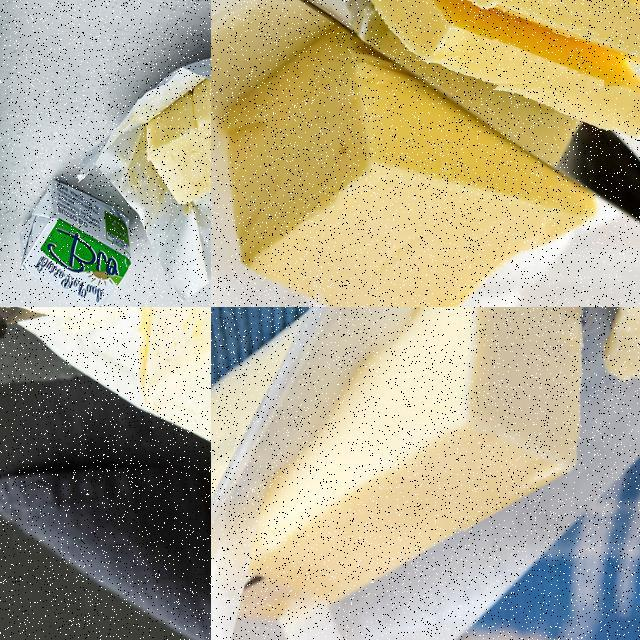Butter: (211, 307, 586, 636), (220, 27, 605, 306), (368, 0, 639, 138), (139, 307, 210, 509), (145, 70, 210, 206)
